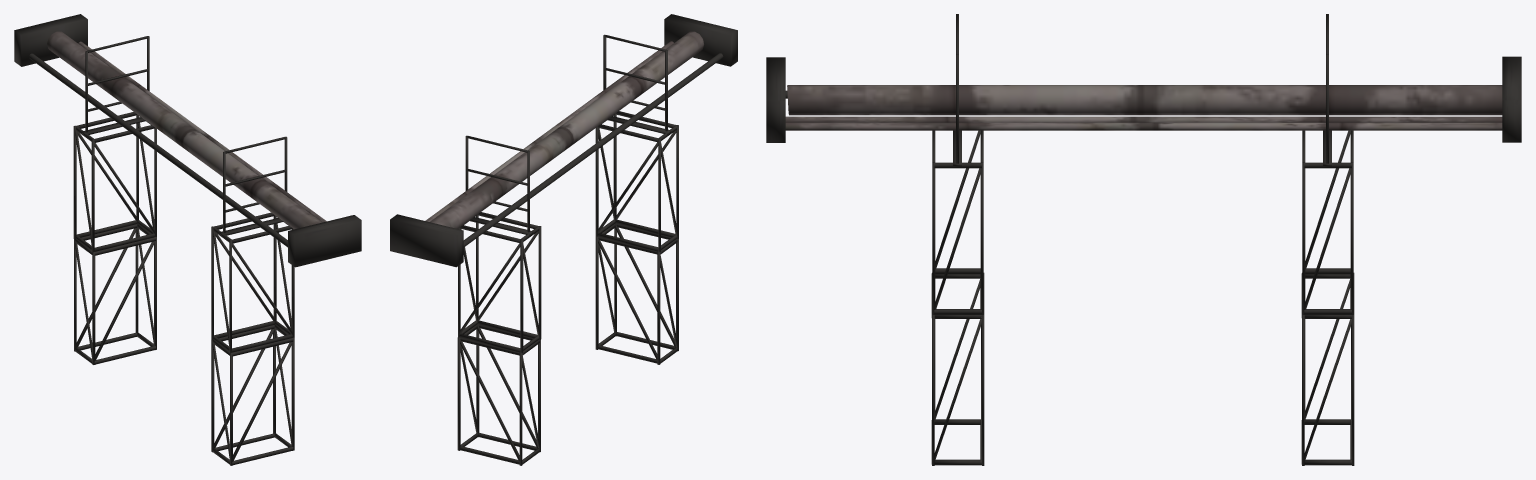
The model's file is Pipe_2.glb.
The picture shows the model from 3 angles, left to right: view 1: azimuth 30°, elevation 25°; view 2: azimuth 150°, elevation 25°; view 3: azimuth 270°, elevation 25°; orthographic projection. The views are drawn at different scales.
Visible parts, largest first — view 1: Pipe_2; view 2: Pipe_2; view 3: Pipe_2.
Part boxes in pixels (x1,y1,x2,y2): Pipe_2: (14, 14, 361, 465); Pipe_2: (390, 14, 737, 465); Pipe_2: (766, 14, 1521, 465).
Bounding box in the file's own units: 2.2 × 9.29 × 15.44.
1 material, 1 textured.
